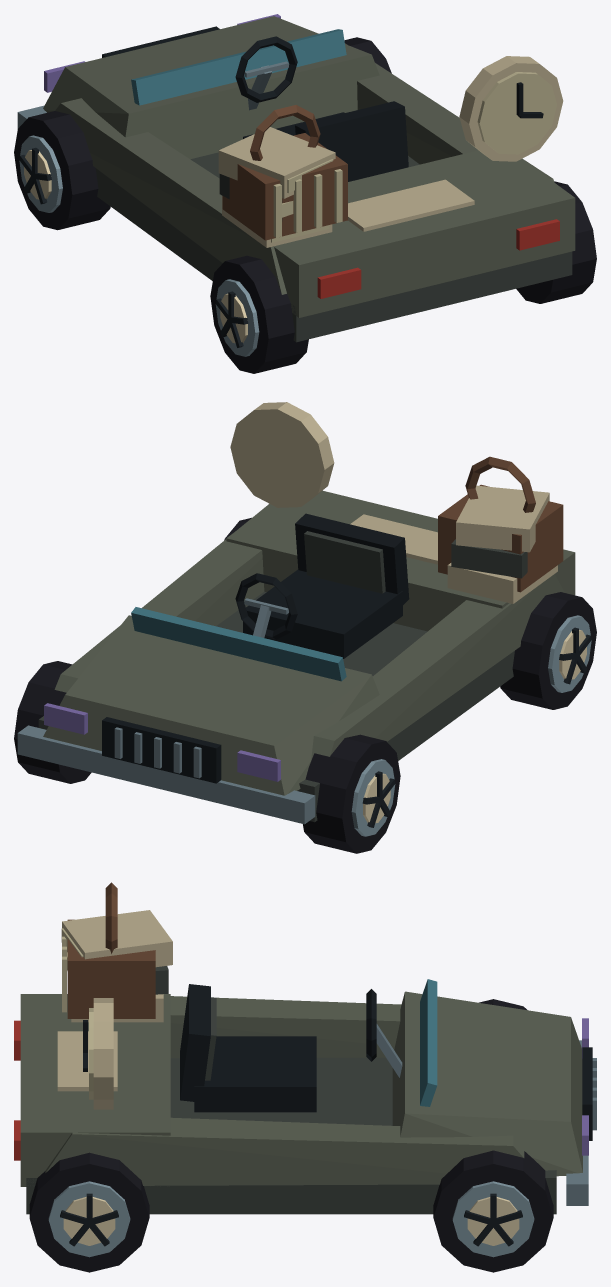
The model's file is kart.glb.
The picture shows the model from 3 angles, top to bottom: view 1: azimuth 30°, elevation 25°; view 2: azimuth 150°, elevation 25°; view 3: azimuth 270°, elevation 25°; orthographic projection. The views are drawn at different scales.
Visible parts, largest first — view 1: identity-sedan-sedan-road-car-body, identity-sedan-motif-clock, wheel-front-left, identity-sedan-motif-basket, wheel-rear-left, identity-sedan-driver-cockpit, identity-sedan-motif-books, wheel-rear-right, wheel-front-right; view 2: identity-sedan-sedan-road-car-body, identity-sedan-driver-cockpit, wheel-front-left, identity-sedan-motif-clock, identity-sedan-motif-books, wheel-rear-left, identity-sedan-motif-basket, wheel-front-right; view 3: identity-sedan-sedan-road-car-body, identity-sedan-driver-cockpit, wheel-front-right, wheel-rear-right, identity-sedan-motif-basket, identity-sedan-motif-books, identity-sedan-motif-clock.
Boxes of the visible parts, x1,y1,x2,y2 form: identity-sedan-sedan-road-car-body: [17, 14, 575, 342]; identity-sedan-motif-clock: [459, 56, 563, 161]; wheel-front-left: [14, 111, 110, 230]; identity-sedan-motif-basket: [222, 105, 347, 240]; wheel-rear-left: [210, 255, 308, 373]; identity-sedan-driver-cockpit: [235, 36, 408, 181]; identity-sedan-motif-books: [218, 127, 335, 247]; wheel-rear-right: [516, 181, 596, 303]; wheel-front-right: [344, 37, 391, 73]; identity-sedan-sedan-road-car-body: [17, 490, 575, 824]; identity-sedan-driver-cockpit: [235, 513, 409, 658]; wheel-front-left: [303, 734, 400, 853]; identity-sedan-motif-clock: [230, 402, 334, 507]; identity-sedan-motif-books: [447, 485, 557, 603]; wheel-rear-left: [500, 592, 596, 709]; identity-sedan-motif-basket: [438, 456, 563, 592]; wheel-front-right: [14, 661, 91, 783]; identity-sedan-sedan-road-car-body: [14, 979, 596, 1214]; identity-sedan-driver-cockpit: [180, 984, 402, 1112]; wheel-front-right: [433, 1150, 553, 1272]; wheel-rear-right: [29, 1152, 149, 1272]; identity-sedan-motif-basket: [62, 882, 155, 1018]; identity-sedan-motif-books: [61, 910, 172, 1022]; identity-sedan-motif-clock: [83, 998, 113, 1109].
Size of the model in its own units: 2.07 by 1.37 by 2.92.
